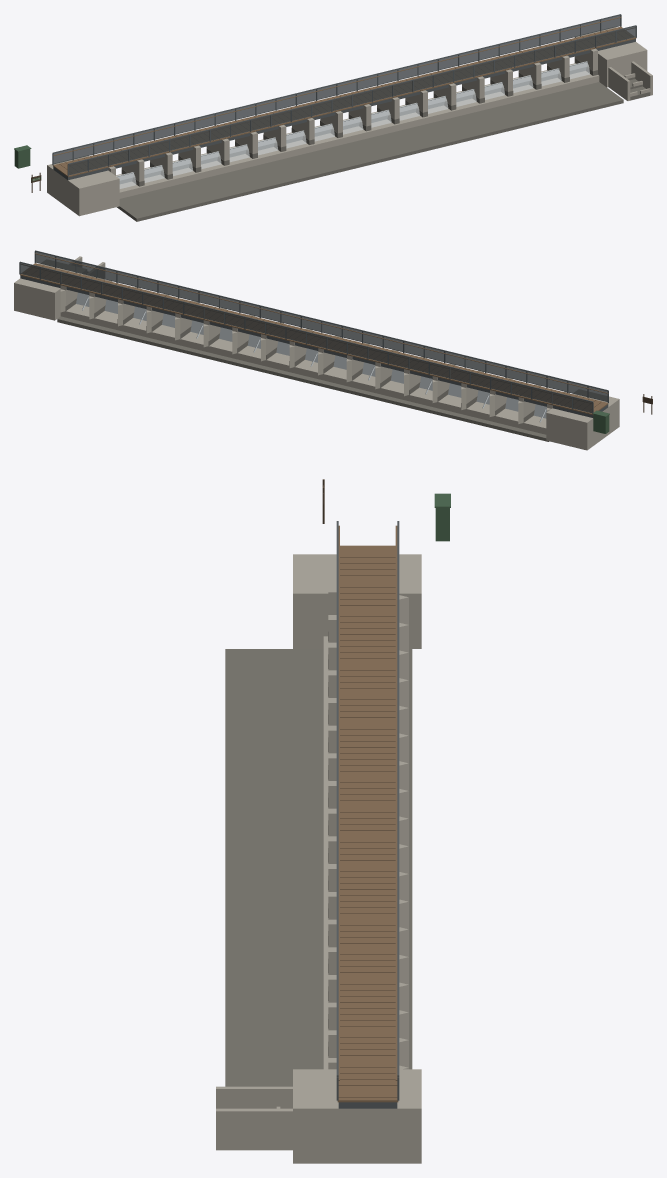
The model's file is kent_st_weir.glb.
3 renders of one model, top to bottom at view 1: azimuth 30°, elevation 25°; view 2: azimuth 150°, elevation 25°; view 3: azimuth 270°, elevation 25°, orthographic. The views are drawn at different scales.
Parts seen in each view (by area): view 1: KentStWeir; view 2: KentStWeir; view 3: KentStWeir.
Boxes of the visible parts, x1=… form: KentStWeir: x1=14, y1=14, x2=652, y2=221; KentStWeir: x1=14, y1=250, x2=652, y2=450; KentStWeir: x1=216, y1=479, x2=450, y2=1163.
Size of what is drawn, in the model's own units: 60.14 by 4.6 by 10.05.
Materials: 11 (1 with a texture image).
